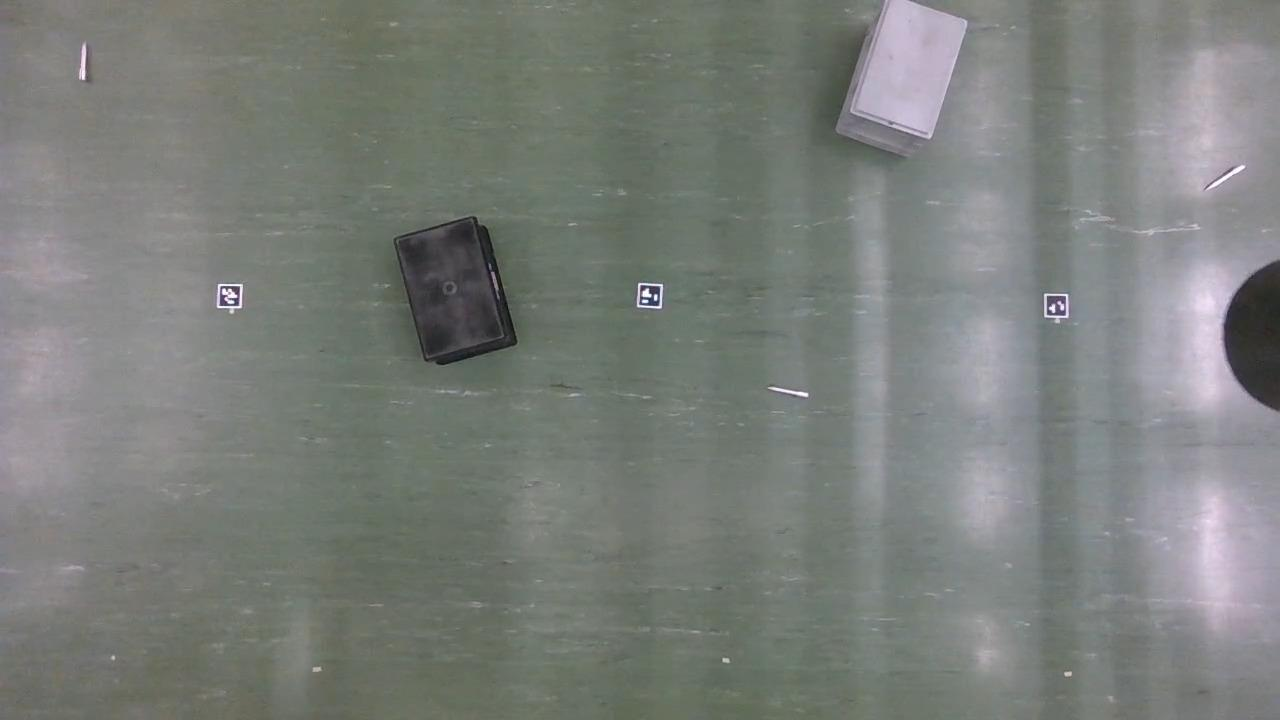probes: (1205, 167, 1243, 193), (770, 387, 807, 399), (80, 43, 88, 81)
rako: (834, 1, 969, 162), (394, 219, 517, 368)
